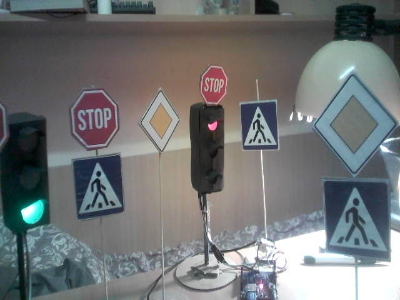crosswalk: (324, 179, 389, 260), (74, 158, 123, 212), (241, 102, 278, 150)
priority_road: (315, 78, 395, 173), (139, 91, 179, 152)
stop: (72, 90, 118, 149), (200, 67, 227, 105)
trafficlight_green: (11, 121, 47, 225)
trafficlight_red: (199, 110, 225, 191)
